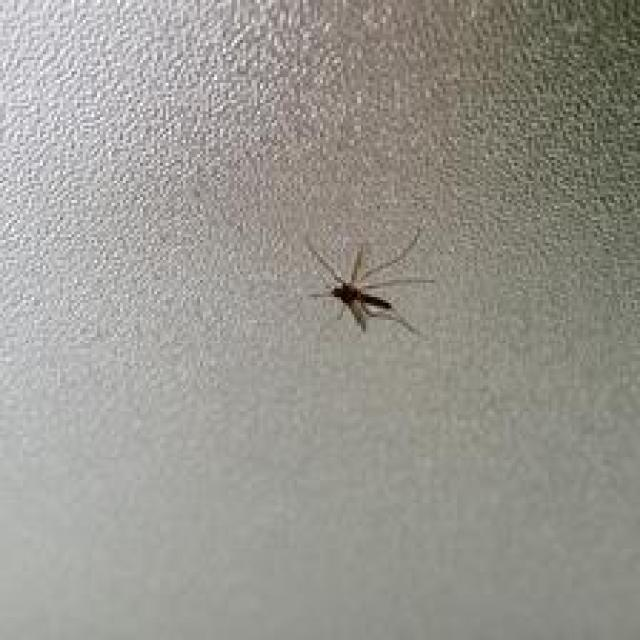Culex: (303, 227, 434, 336)
